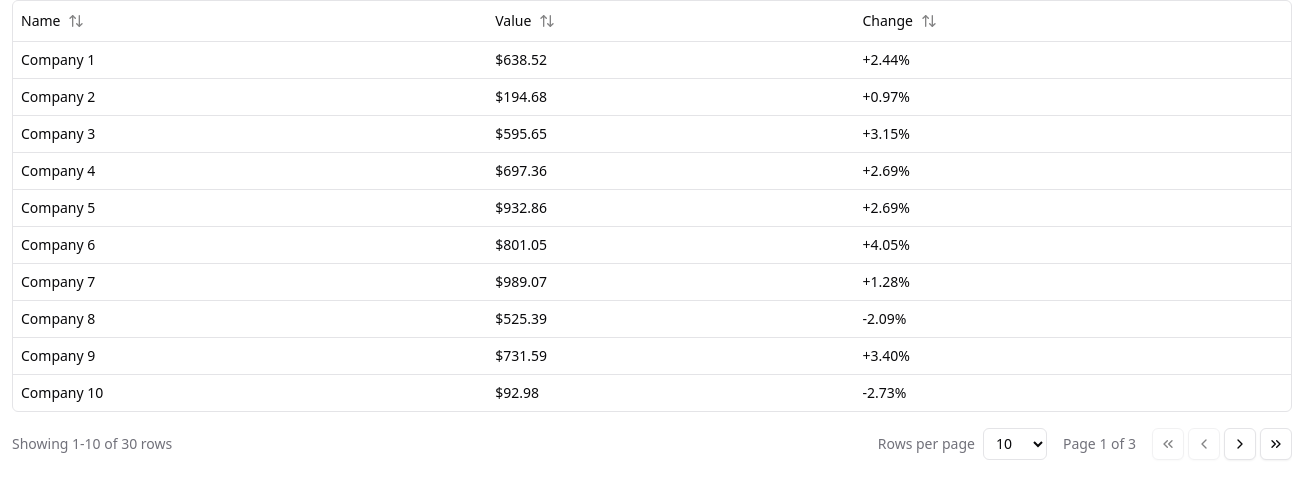
Test: DataTable › Pagination › navigates to next page on click
Check: the text "Company 1" is shown, box top-left (13, 41), bottom-right (487, 78)
Check: the text "Company 11" is not shown
Click the 3rd button at (1240, 444), box top-left (1224, 428), bottom-right (1256, 460)
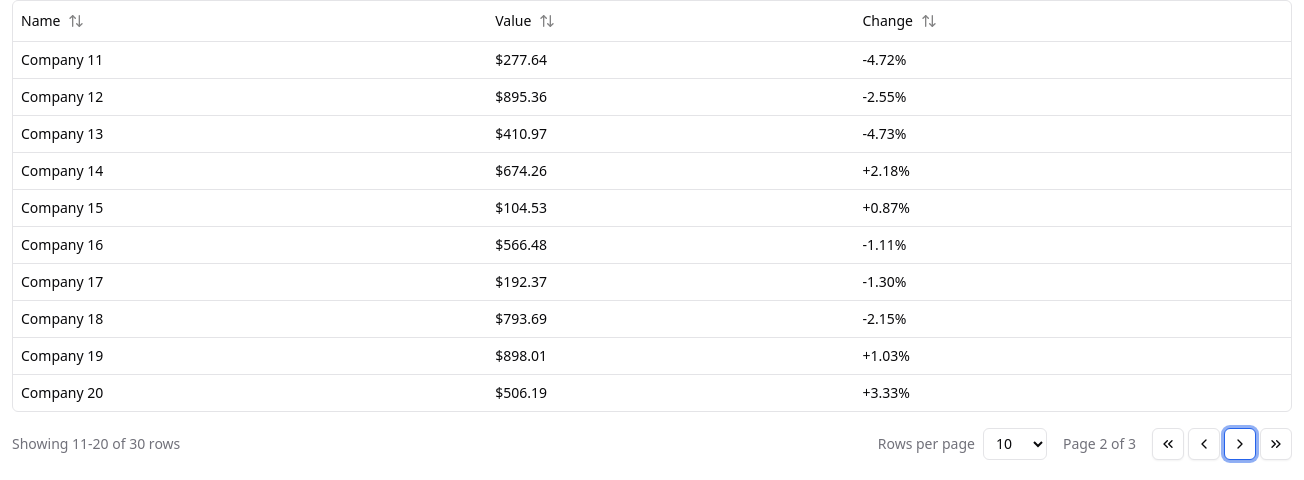
Check: the text "Company 11" is shown, box top-left (13, 41), bottom-right (487, 78)
